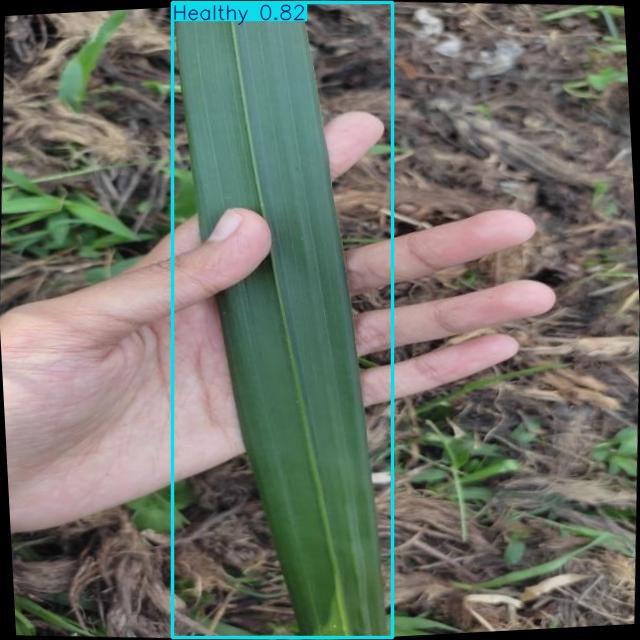Healthy: (173, 2, 392, 638)
